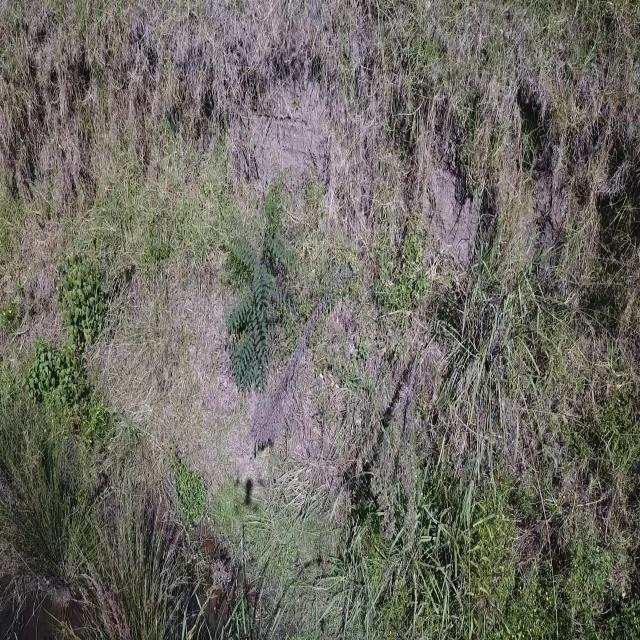Mysore-Thorn-Weed: (228, 188, 298, 394)
